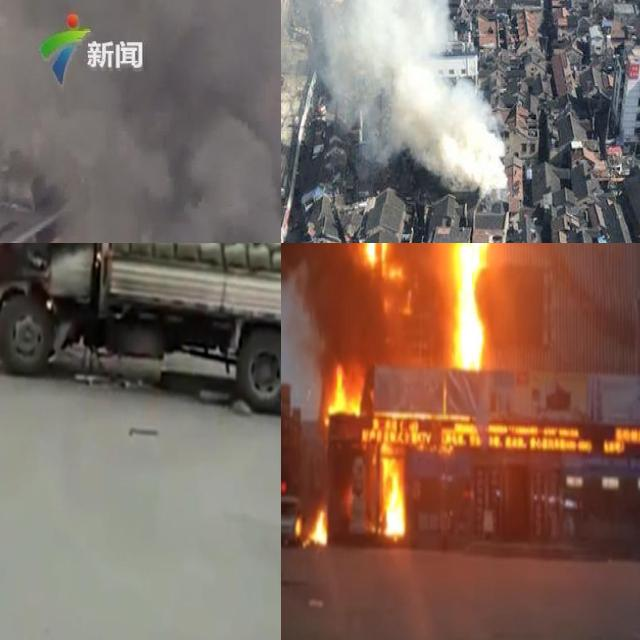fire: (442, 243, 491, 366), (323, 363, 362, 423), (380, 454, 404, 538), (296, 504, 328, 547)
smoke: (0, 0, 281, 243), (281, 0, 505, 187), (303, 273, 371, 364)
